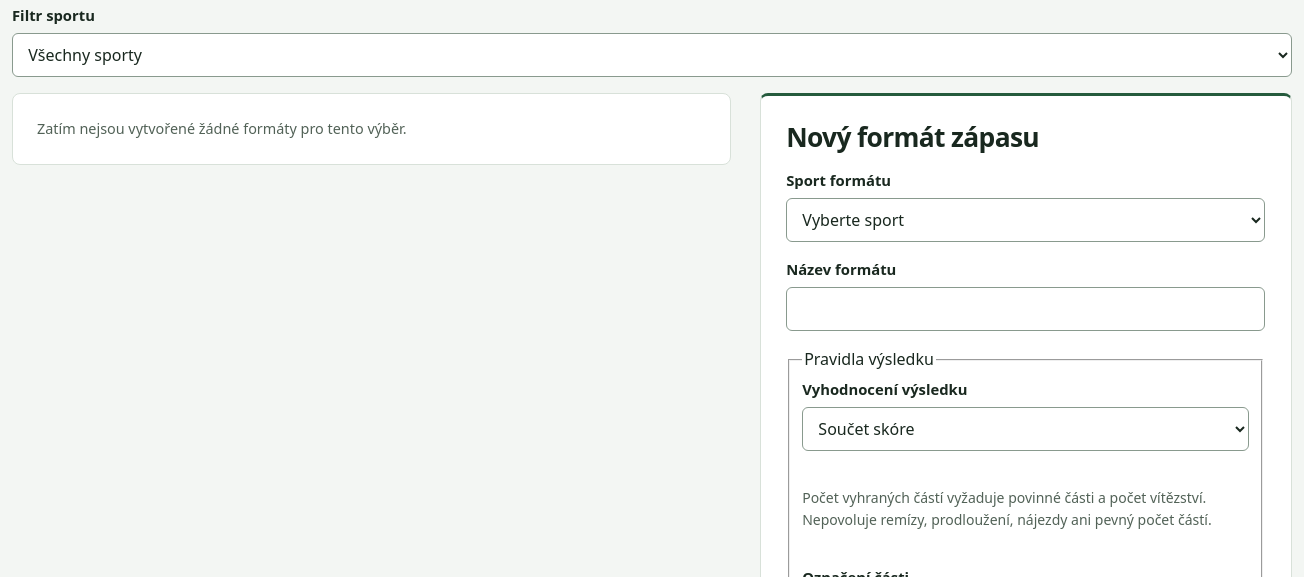
Test: P4 formáty zápasu › uloží basketball přes REST s CSRF a nezávislými pravidly
Step 1. Select "Basketbal" in the dropdown labelled "Sport formátu" → (1026, 220), box [786,198,1266,242]
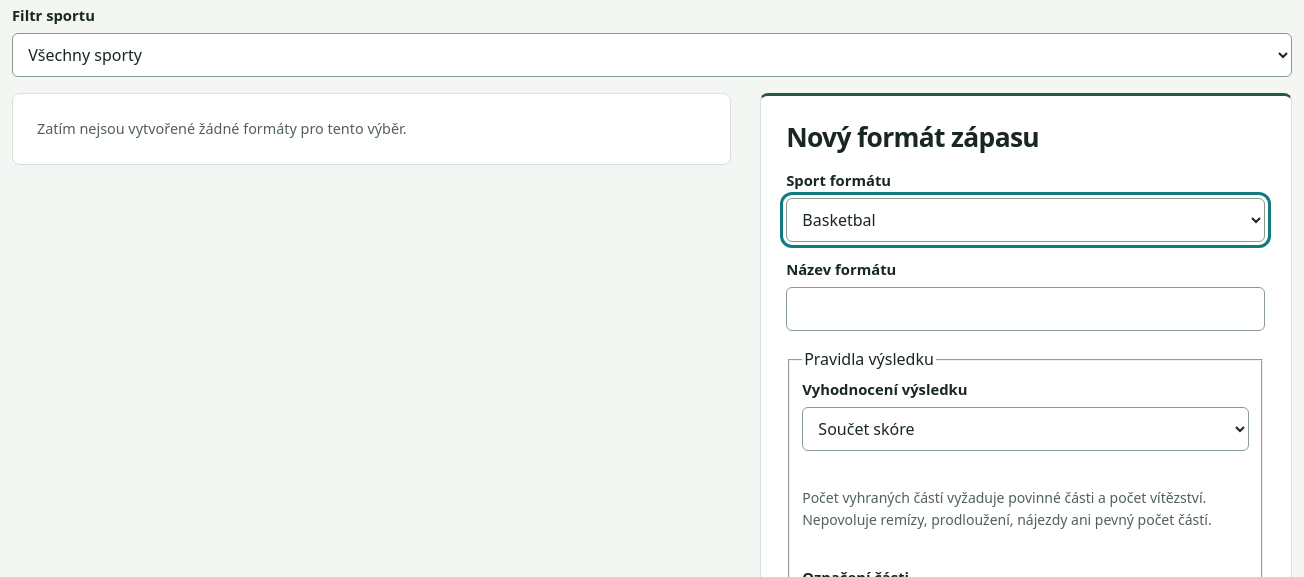
Step 2. Type "Basketbalový formát" into the field labelled "Název formátu" → (1026, 309), box [786,287,1266,331]
(page scrolled)
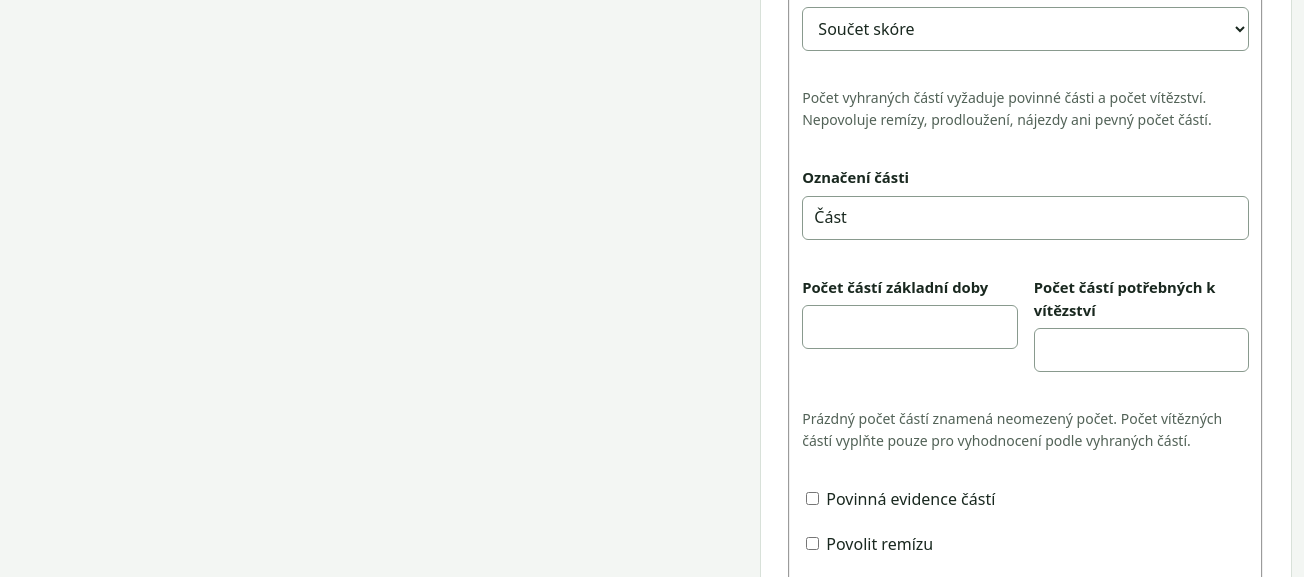
Step 3. Replace the text in the field labelled "Označení části" with "Čtvrtina" → (1026, 218), box [802,196,1250,240]
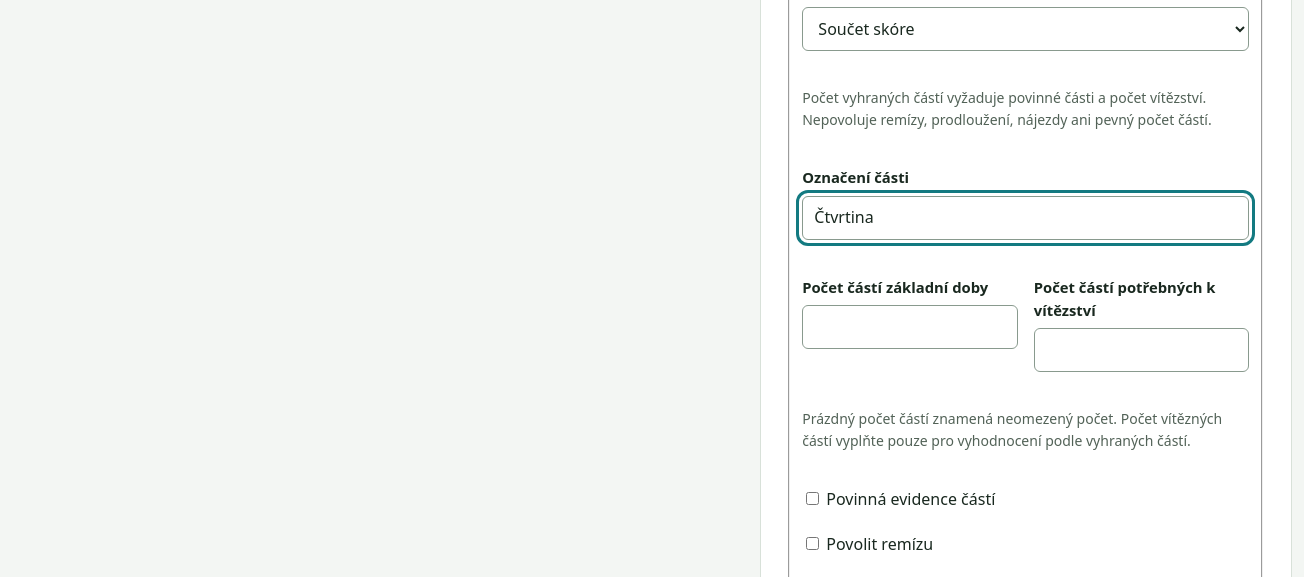
Step 4. Type "4" into the number field labelled "Počet částí základní doby" → (910, 327), box [802,305,1018,349]
(page scrolled)
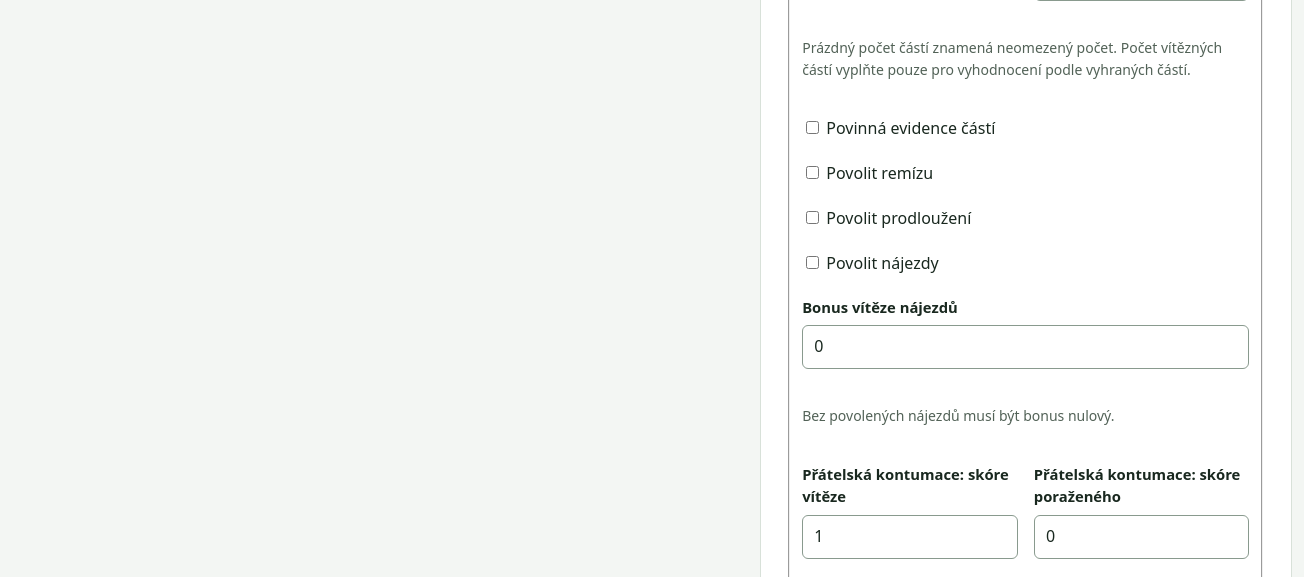
Step 5. Click the checkbox labelled "Povolit prodloužení" → click(813, 217), box [806,211,819,224]
(page scrolled)
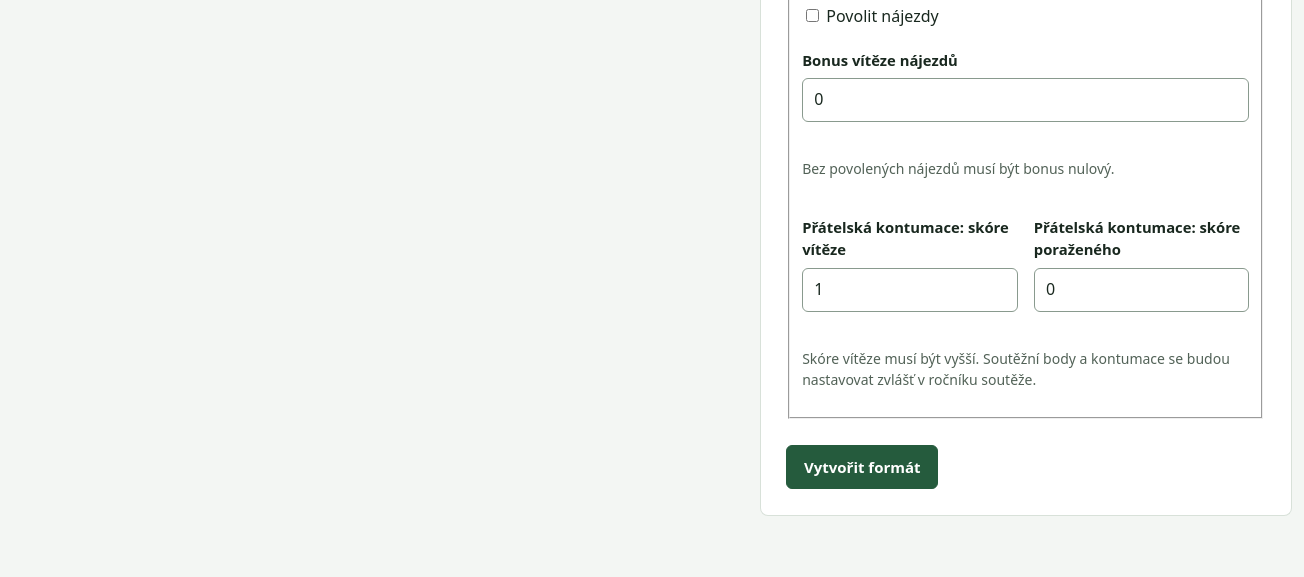
Step 6. Click the button "Vytvořit formát" → click(862, 467), box [786,445,938,489]
(page scrolled)
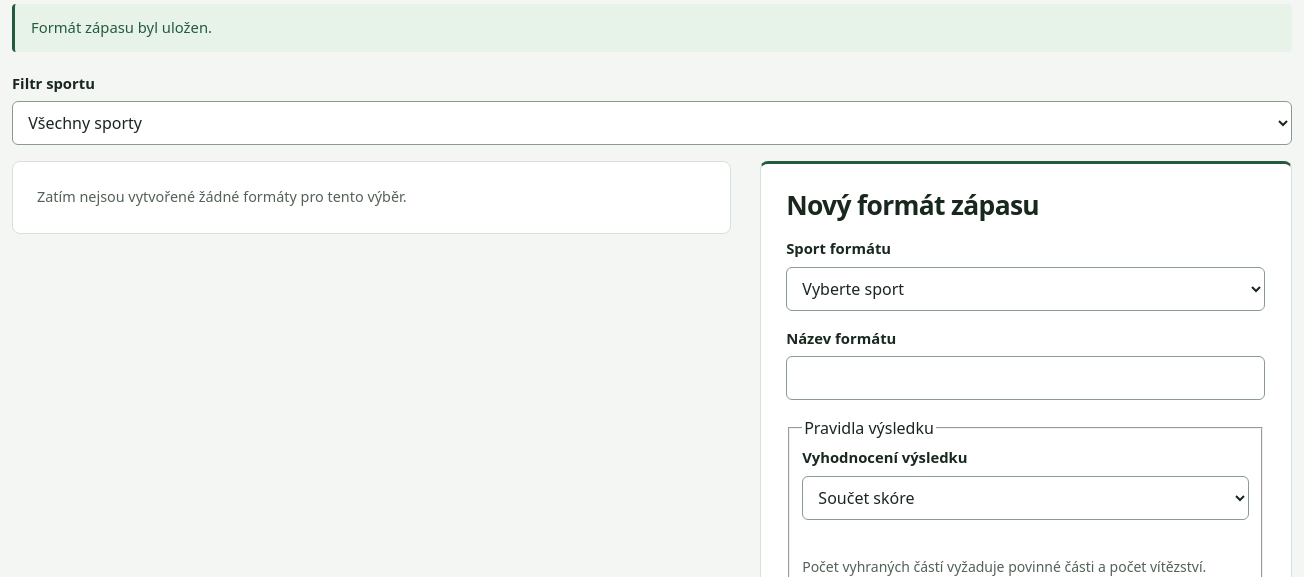
Check: the text "Formát zápasu byl uložen." is shown, box [12,4,1292,52]
